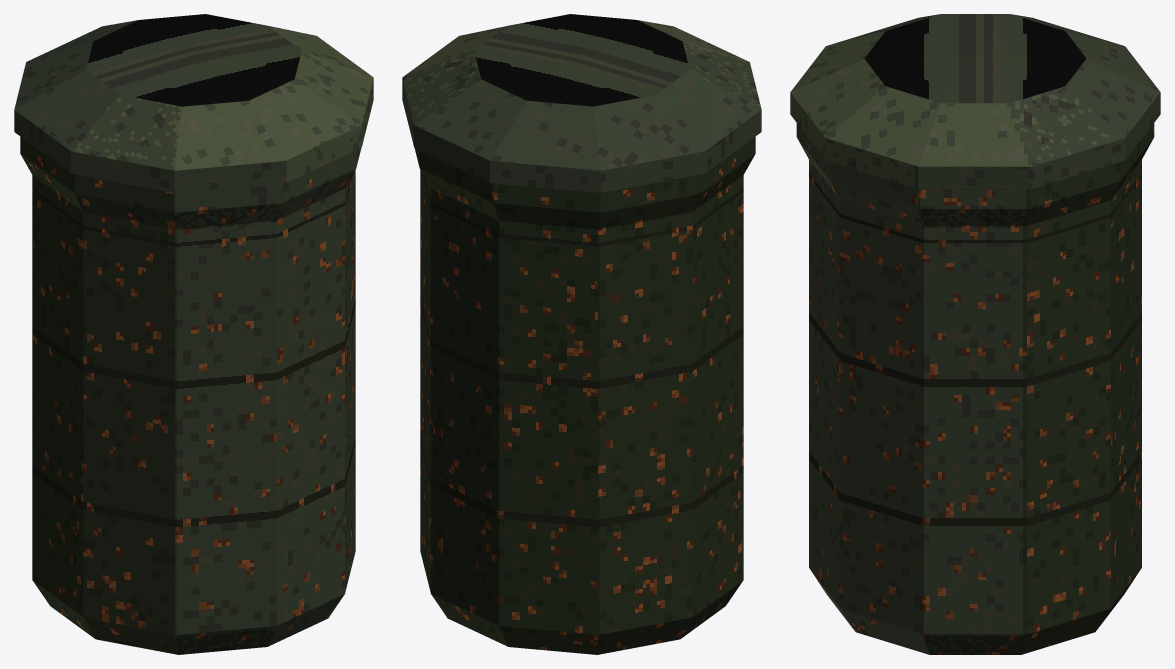
File: trash_bin.glb
3 views of the same model, side by side, from view 1: azimuth 30°, elevation 25°; view 2: azimuth 150°, elevation 25°; view 3: azimuth 270°, elevation 25° (orthographic).
Parts seen in each view (by area): view 1: prop; view 2: prop; view 3: prop.
Part boxes in pixels (x1,y1,x2,y2): prop: (14, 14, 373, 654); prop: (402, 14, 761, 654); prop: (790, 14, 1160, 654).
Size of the model in its own units: 0.5706 by 0.97 by 0.6.
Materials: 1 (1 with a texture image).
